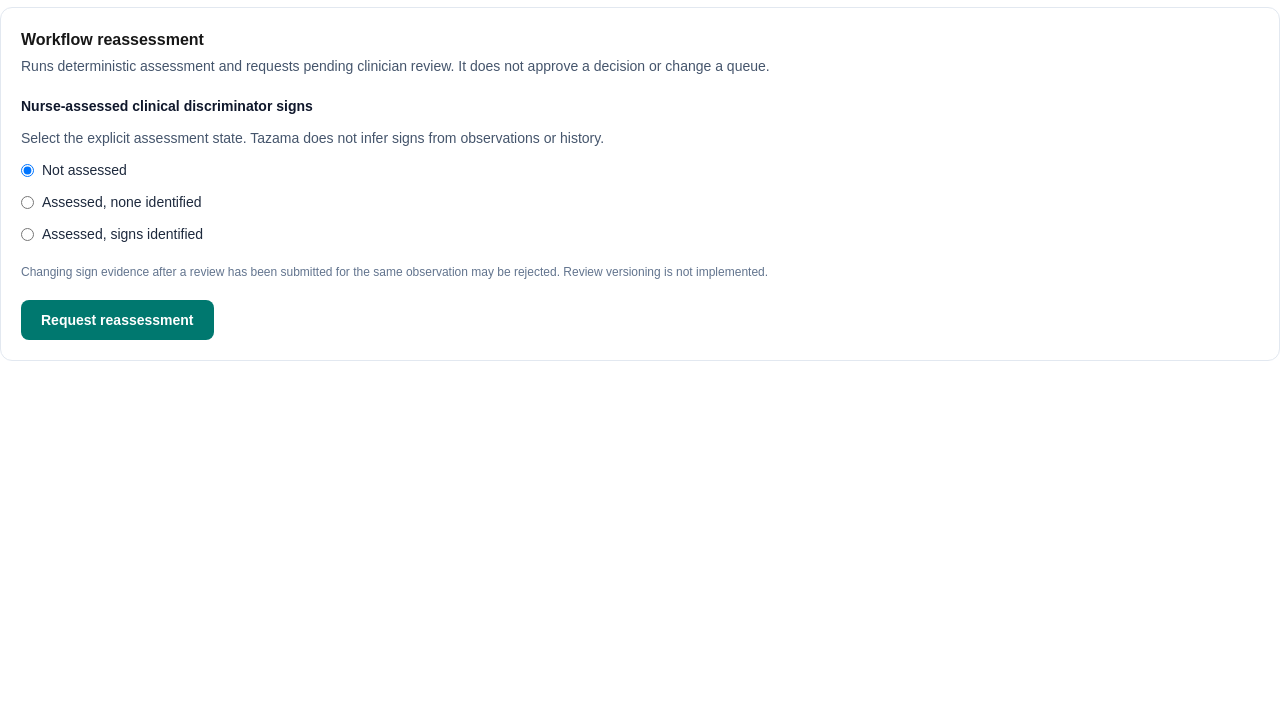
Scenario: ReassessmentPanel › shows insufficient clinical evidence without inferring a priority
Click the button "Request reassessment": x=117, y=320 [21,300,214,340]
(page scrolled)
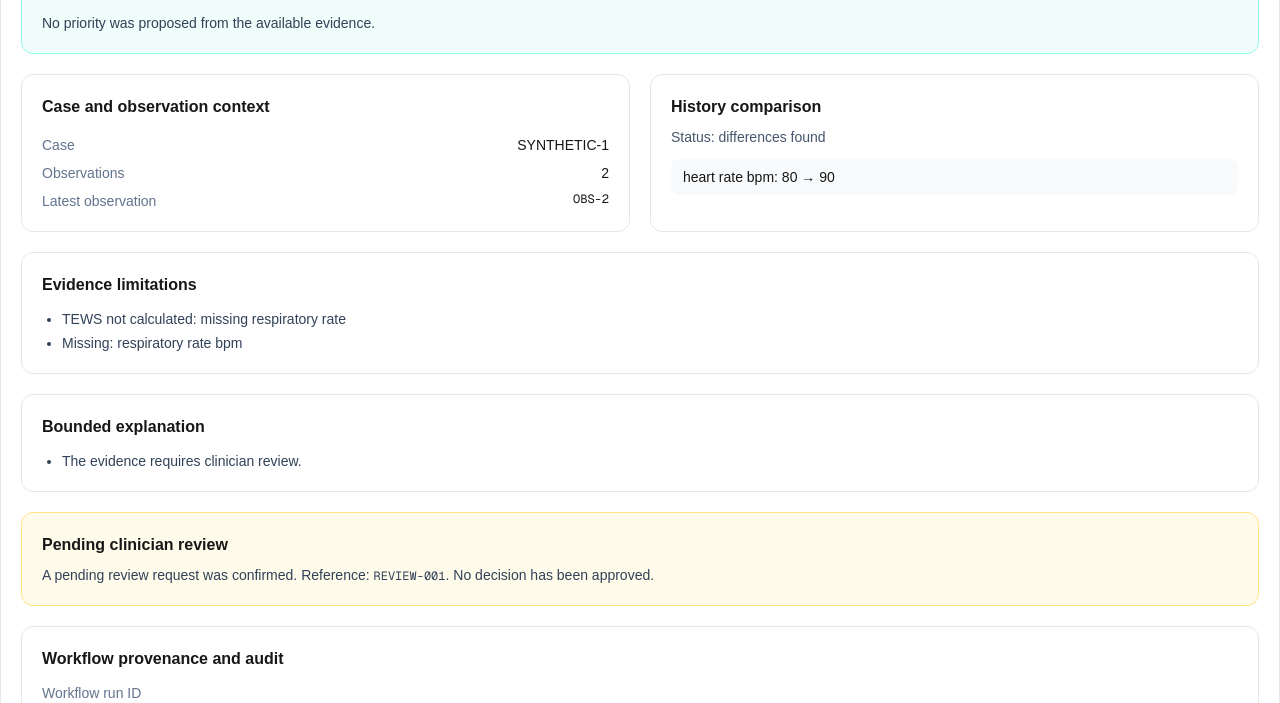
Result: the text "No priority was proposed from the available evidence." is shown at [42,15,375,31]
Result: the list item "Missing: respiratory rate bpm" is shown at [62,335,242,351]
